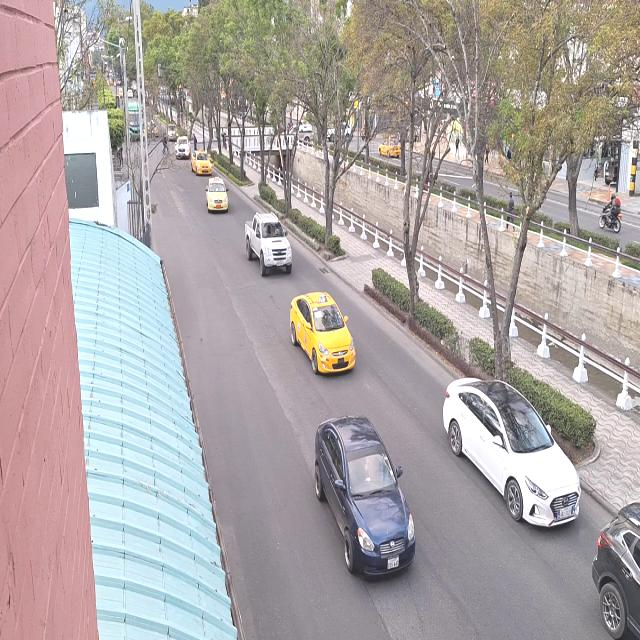CMT: (245, 216, 292, 276)
MOTORCYCLE: (600, 207, 622, 231)
SED: (440, 373, 576, 531), (316, 422, 414, 578), (289, 295, 354, 378), (206, 173, 229, 215), (190, 146, 214, 178)
